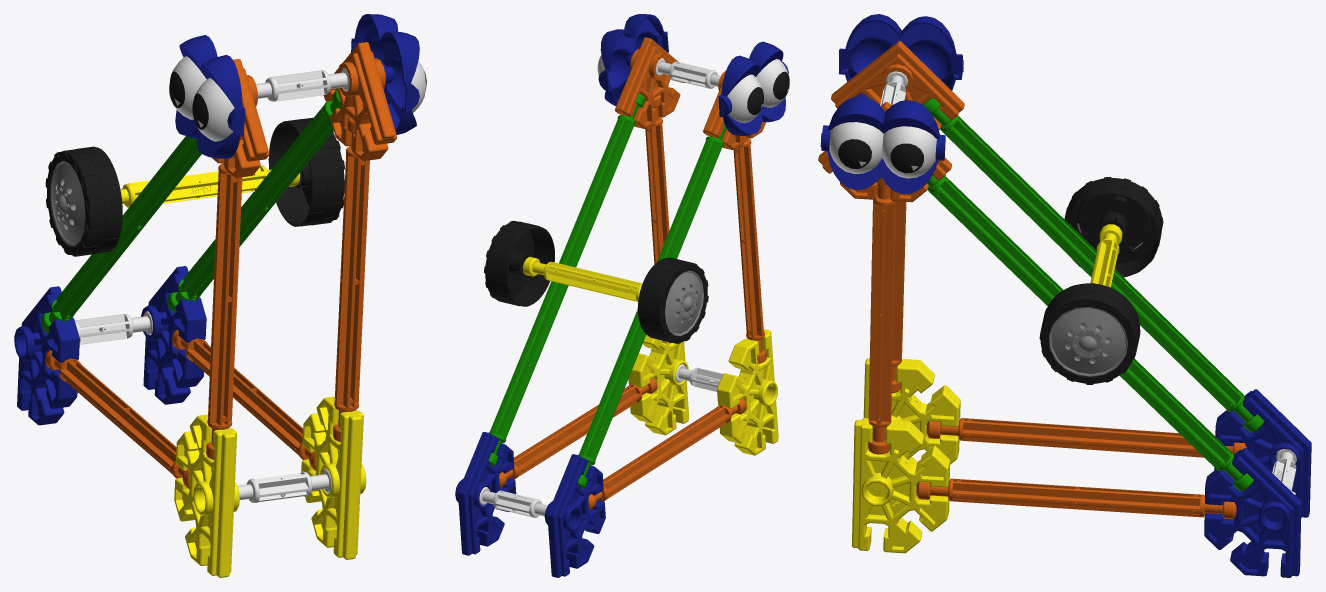
The picture shows the model from 3 angles, left to right: view 1: azimuth 30°, elevation 25°; view 2: azimuth 150°, elevation 25°; view 3: azimuth 270°, elevation 25°; orthographic projection. The views are drawn at different scales.
Parts seen in each view (by area): view 1: Untitled.5476, Untitled.5477, Untitled.5471, Untitled.5449, Untitled.5473, Untitled.5474, Untitled.5447, Untitled.5469, Untitled.5468, Untitled.5445, Untitled.5443, Untitled.5448 (+15 smaller); view 2: Untitled.5469, Untitled.5447, Untitled.5476, Untitled.5473, Untitled.5445, Untitled.5474, Untitled.5477, Untitled.5449, Untitled.5468, Untitled.5448, Untitled.5443, Untitled.5470 (+15 smaller); view 3: Untitled.5477, Untitled.5447, Untitled.5474, Untitled.5469, Untitled.5470, Untitled.5448, Untitled.5443, Untitled.5471, Untitled.5473, Untitled.5444, Untitled.5476, Untitled.5467 (+15 smaller).
Part boxes in pixels (x1,y1,x2,y2): Untitled.5476: (174, 414, 239, 577); Untitled.5477: (301, 396, 366, 559); Untitled.5471: (332, 116, 369, 442); Untitled.5449: (206, 158, 242, 459); Untitled.5473: (14, 286, 79, 425); Untitled.5474: (141, 266, 206, 404); Untitled.5447: (41, 136, 201, 333); Untitled.5469: (167, 89, 341, 312); Untitled.5468: (323, 42, 396, 160); Untitled.5445: (268, 117, 344, 226); Untitled.5443: (45, 146, 122, 256); Untitled.5448: (45, 350, 189, 489); Untitled.5469: (488, 93, 645, 466); Untitled.5447: (578, 122, 726, 488); Untitled.5476: (717, 329, 778, 455); Untitled.5473: (544, 454, 605, 577); Untitled.5445: (484, 220, 554, 306); Untitled.5474: (455, 432, 516, 555); Untitled.5477: (628, 335, 688, 435); Untitled.5449: (733, 136, 766, 363); Untitled.5468: (615, 37, 684, 128); Untitled.5448: (588, 398, 746, 510); Untitled.5443: (637, 257, 708, 343); Untitled.5470: (499, 377, 657, 488); Untitled.5477: (852, 418, 950, 553); Untitled.5447: (922, 98, 1264, 432); Untitled.5474: (1204, 448, 1301, 577); Untitled.5469: (927, 175, 1253, 491); Untitled.5470: (916, 478, 1236, 519); Untitled.5448: (926, 418, 1246, 457); Untitled.5443: (1064, 176, 1163, 277); Untitled.5471: (868, 177, 895, 454); Untitled.5473: (1214, 389, 1311, 518); Untitled.5444: (1049, 307, 1127, 376); Untitled.5476: (863, 358, 960, 464); Untitled.5467: (831, 41, 964, 129).
Bounding box in the file's own units: 1.21 × 2.36 × 2.16.
